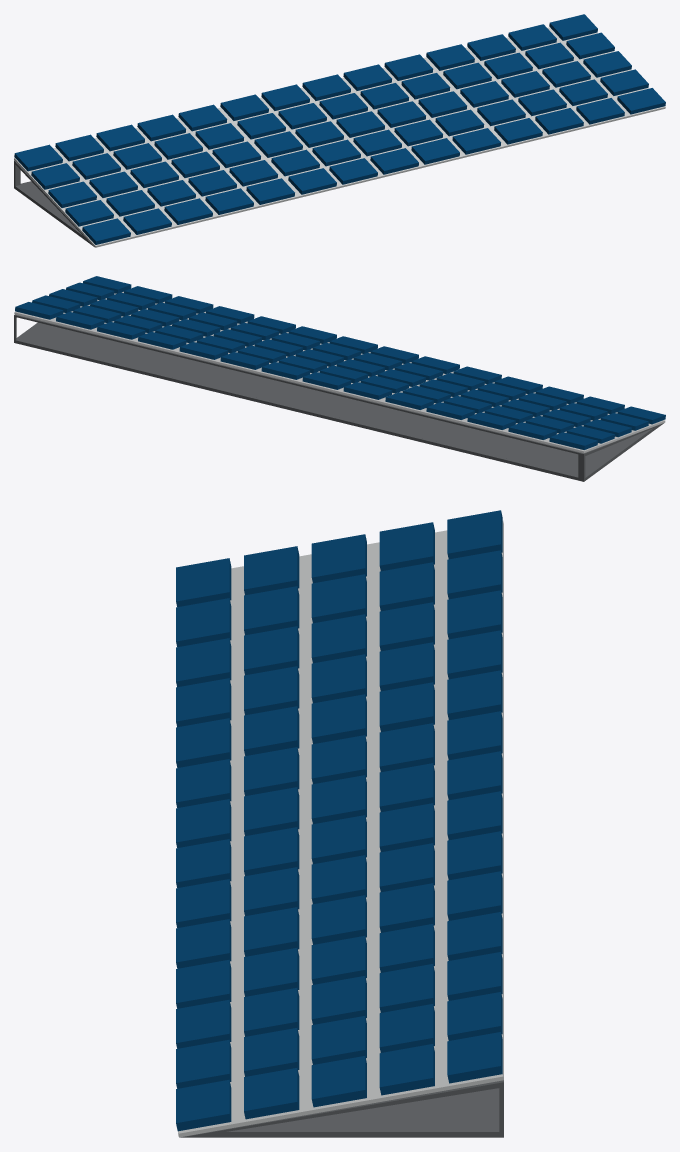
Rendered from Solar Panel 5x14 small.glb.
3 views of the same model, one above another, from view 1: azimuth 30°, elevation 25°; view 2: azimuth 150°, elevation 25°; view 3: azimuth 270°, elevation 25° (orthographic). The views are drawn at different scales.
Visible parts, largest first — view 1: Mesh_Mesh_head_geo.001_lambert2SG.001; view 2: Mesh_Mesh_head_geo.001_lambert2SG.001; view 3: Mesh_Mesh_head_geo.001_lambert2SG.001.
Part boxes in pixels (bbox=[...]): Mesh_Mesh_head_geo.001_lambert2SG.001: bbox=[14, 14, 665, 247]; Mesh_Mesh_head_geo.001_lambert2SG.001: bbox=[14, 276, 665, 481]; Mesh_Mesh_head_geo.001_lambert2SG.001: bbox=[176, 510, 503, 1137].
Size of the model in its own units: 429 by 25.65 by 107.
